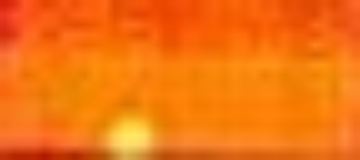Hotspot: (105, 112, 155, 160)
